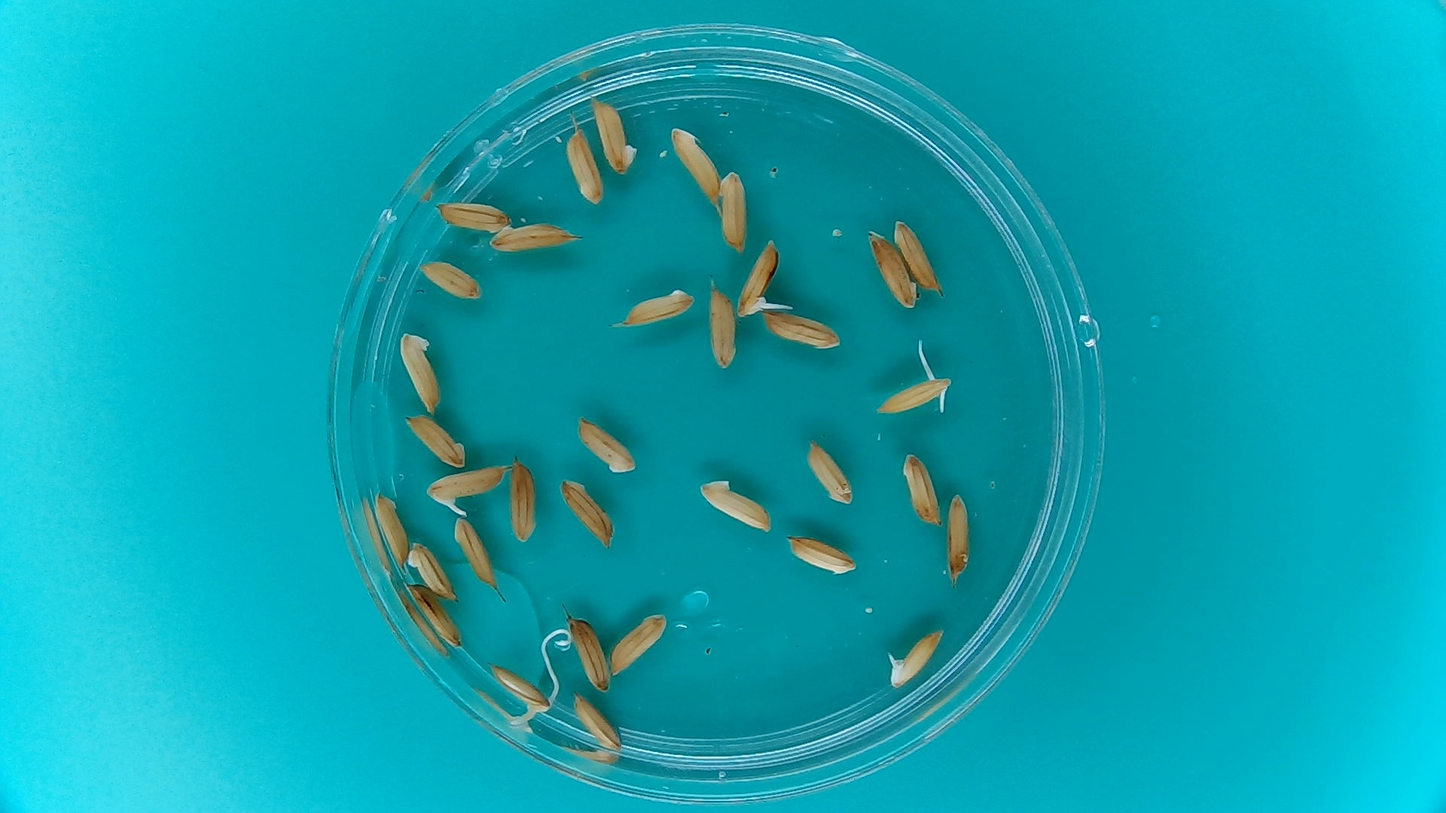no: (668, 124, 723, 210), (697, 476, 776, 532), (867, 228, 920, 309), (558, 476, 616, 550), (403, 581, 464, 650), (607, 611, 668, 677), (611, 285, 699, 330), (892, 219, 942, 297), (576, 413, 638, 475), (398, 330, 443, 415), (589, 96, 637, 175), (402, 413, 468, 470), (566, 613, 612, 694), (804, 437, 855, 506), (451, 516, 497, 590), (941, 486, 973, 592), (761, 309, 843, 350), (564, 124, 605, 206), (900, 450, 943, 528), (784, 533, 859, 576), (570, 689, 622, 751), (487, 220, 580, 254), (408, 540, 457, 601), (716, 170, 749, 256), (373, 492, 410, 568), (706, 285, 737, 372), (418, 258, 481, 300), (436, 199, 513, 233), (508, 458, 538, 544)
yes: (426, 462, 509, 517), (865, 367, 951, 416), (885, 625, 947, 689), (490, 661, 557, 719), (736, 236, 782, 319)
